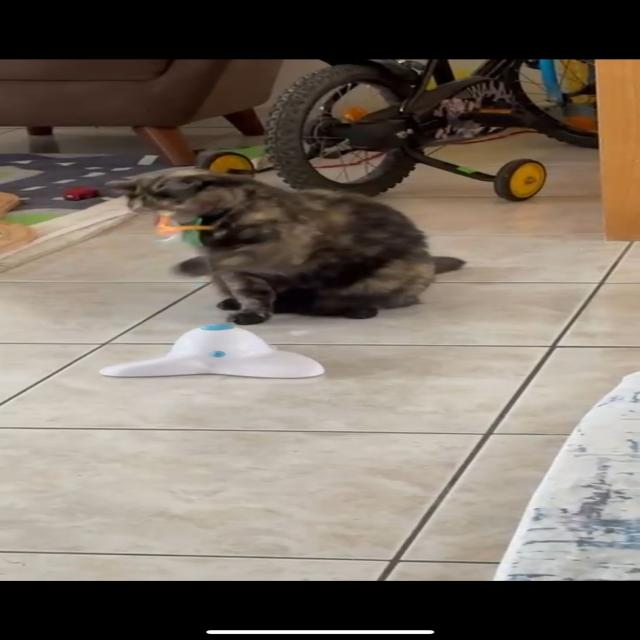authorized: (105, 165, 466, 325)
